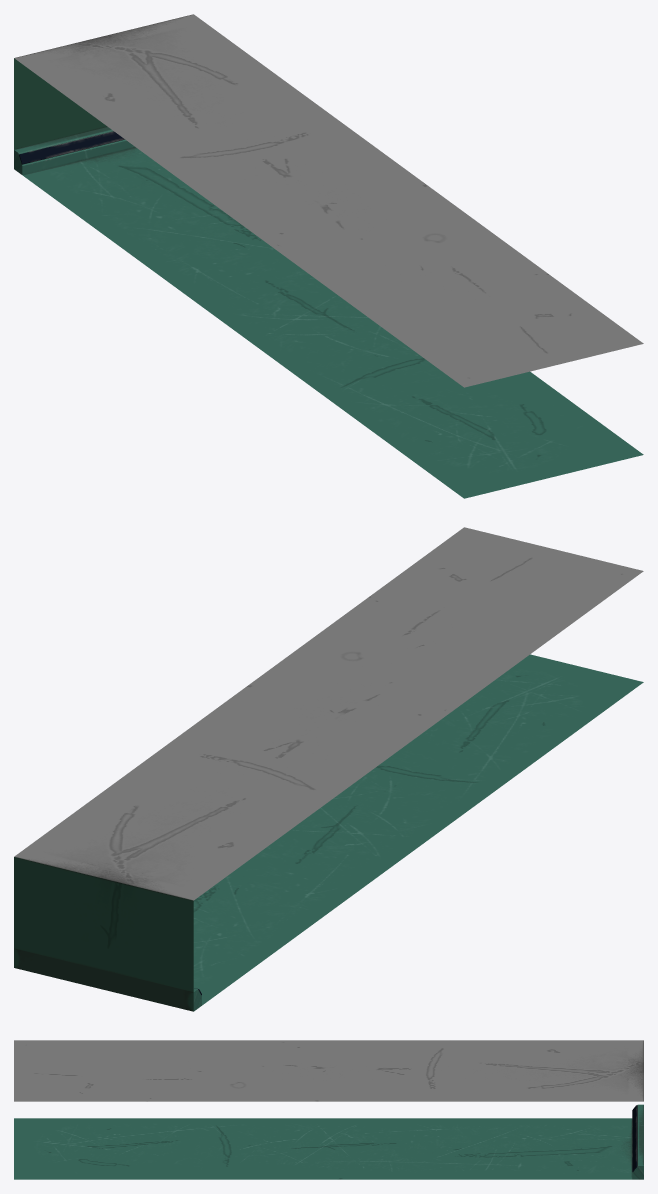
3 renders of one model, top to bottom at view 1: azimuth 30°, elevation 25°; view 2: azimuth 150°, elevation 25°; view 3: azimuth 270°, elevation 25°, orthographic. The views are drawn at different scales.
Visible parts, largest first — view 1: polySurface241, polySurface239, polySurface242, polySurface237, polySurface238; view 2: polySurface241, polySurface239, polySurface242; view 3: polySurface241, polySurface239, polySurface237, polySurface238.
Boxes of the visible parts, x1,y1,x2,y2 form: polySurface241: (14, 14, 643, 387); polySurface239: (23, 147, 643, 498); polySurface242: (14, 58, 107, 149); polySurface237: (14, 127, 135, 175); polySurface238: (19, 131, 124, 164); polySurface241: (14, 527, 643, 900); polySurface239: (193, 654, 643, 1005); polySurface242: (14, 857, 193, 1011); polySurface241: (14, 1040, 643, 1101); polySurface239: (14, 1118, 632, 1179); polySurface237: (632, 1104, 643, 1179); polySurface238: (632, 1105, 637, 1171).
Bounding box in the file's own units: 29.58 × 17.47 × 128.
1 material, 1 textured.
